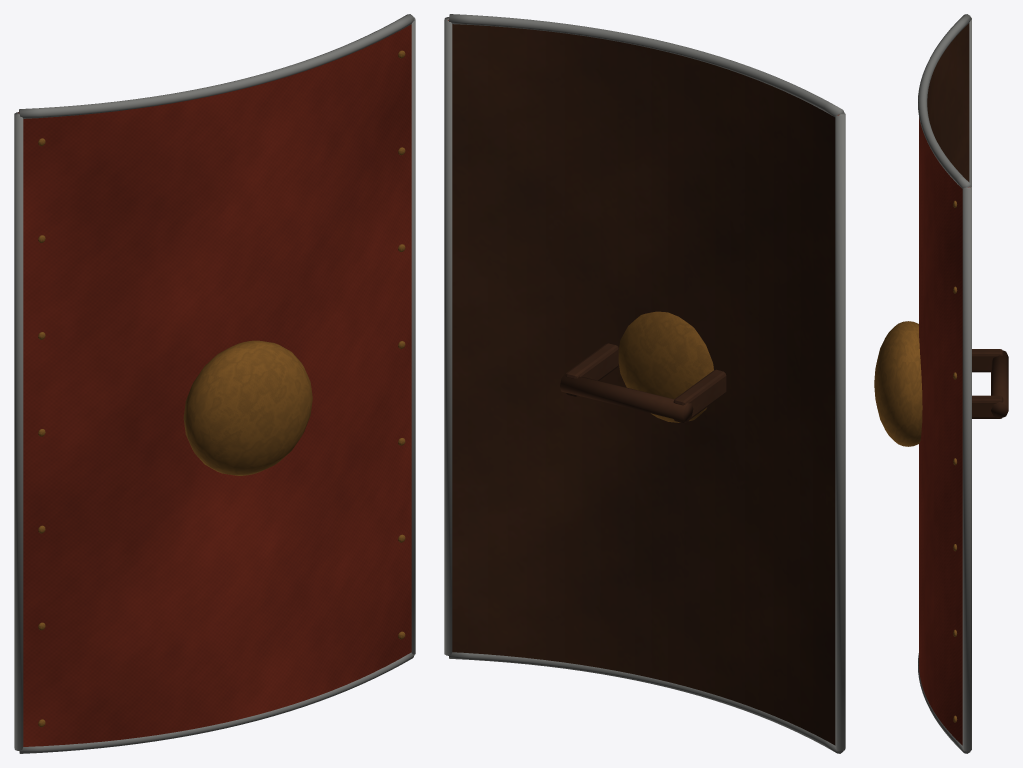
Rendered from scutum_lod0.glb.
3 renders of one model, left to right at view 1: azimuth 30°, elevation 25°; view 2: azimuth 150°, elevation 25°; view 3: azimuth 270°, elevation 25°, orthographic. The views are drawn at different scales.
Parts seen in each view (by area): view 1: WeaponGeometry; view 2: WeaponGeometry; view 3: WeaponGeometry.
Boxes of the visible parts, box(x1,y1,x2,y2) form: WeaponGeometry: box(14, 14, 415, 753); WeaponGeometry: box(444, 14, 845, 753); WeaponGeometry: box(874, 14, 1008, 753).
Size of the model in its own units: 0.778 by 1.2 by 0.256.
Materials: 4 (3 with a texture image).
